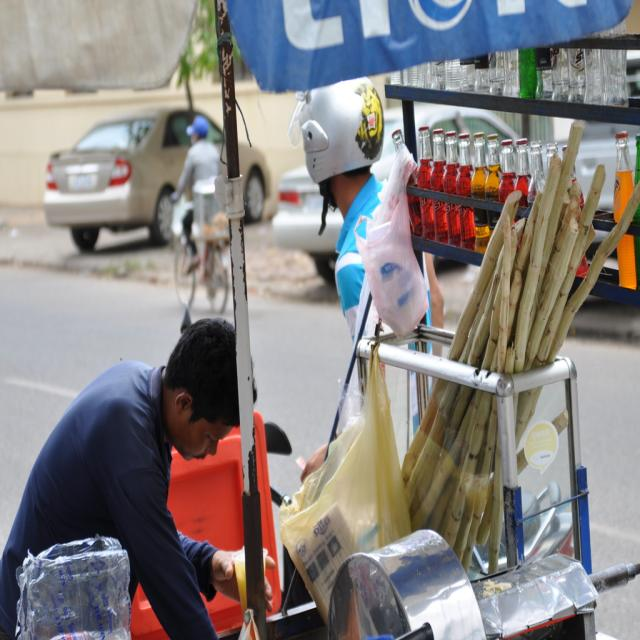car: (41, 105, 271, 251)
